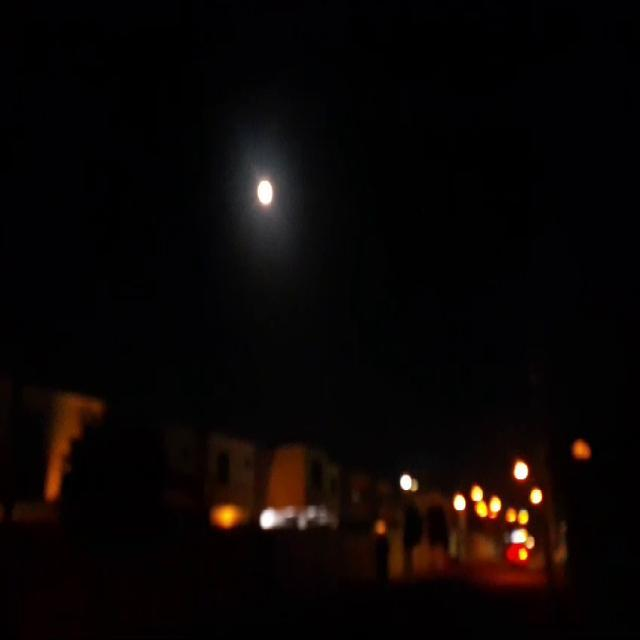moon: (240, 170, 260, 204)
